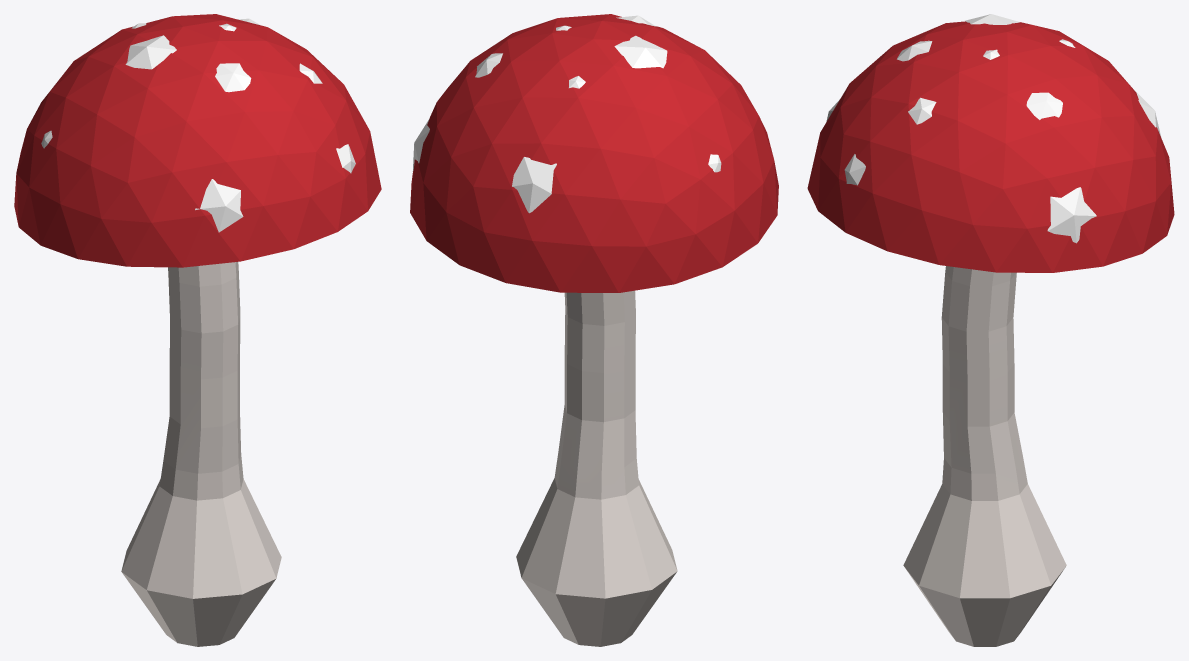
File: Amanita_bigFlipped.fbx
3 renders of one model, left to right at view 1: azimuth 30°, elevation 25°; view 2: azimuth 150°, elevation 25°; view 3: azimuth 270°, elevation 25°, orthographic.
Visible parts, largest first — view 1: Cylinder; view 2: Cylinder; view 3: Cylinder.
Boxes of the visible parts, bbox=[...] form: Cylinder: bbox=[14, 14, 381, 646]; Cylinder: bbox=[410, 14, 778, 646]; Cylinder: bbox=[807, 14, 1174, 646].
Size of the model in its own units: 67.43 by 121 by 67.23.
